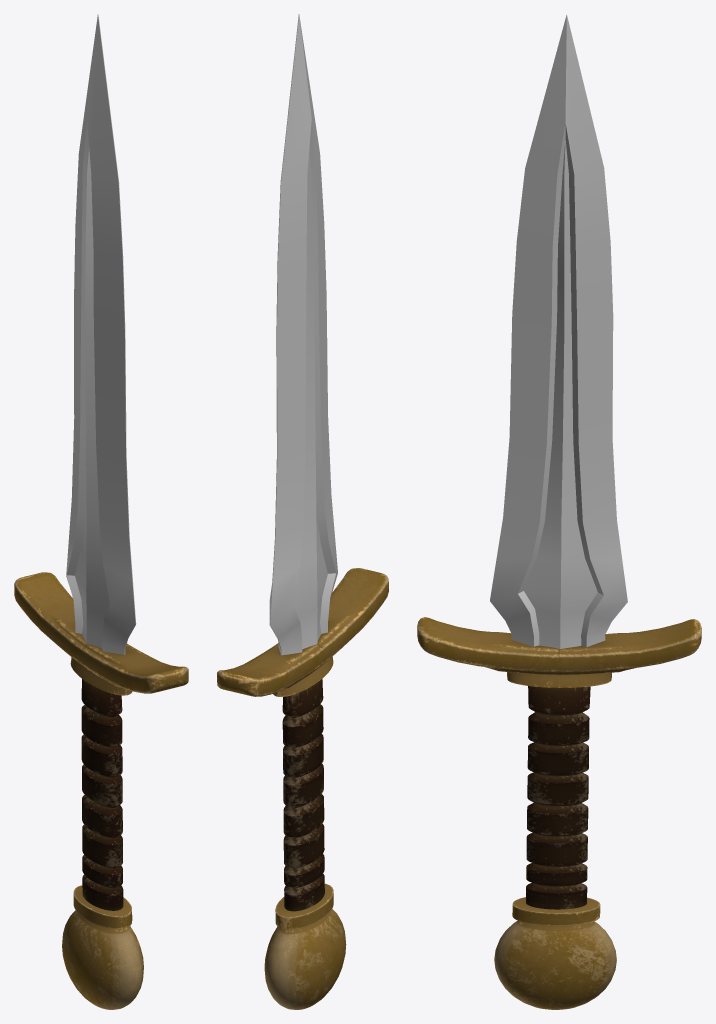
File: dagger.obj
The picture shows the model from 3 angles, left to right: view 1: azimuth 30°, elevation 25°; view 2: azimuth 150°, elevation 25°; view 3: azimuth 270°, elevation 25°; orthographic projection.
Visible parts, largest first — view 1: battle_dagger; view 2: battle_dagger; view 3: battle_dagger.
Boxes of the visible parts, bbox=[...] form: battle_dagger: bbox=[14, 14, 188, 1009]; battle_dagger: bbox=[217, 14, 388, 1009]; battle_dagger: bbox=[417, 14, 701, 1009].
Size of the model in its own units: 0.1639 by 2.84 by 0.7353.
